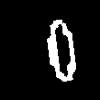chain: (47, 20, 75, 80)
